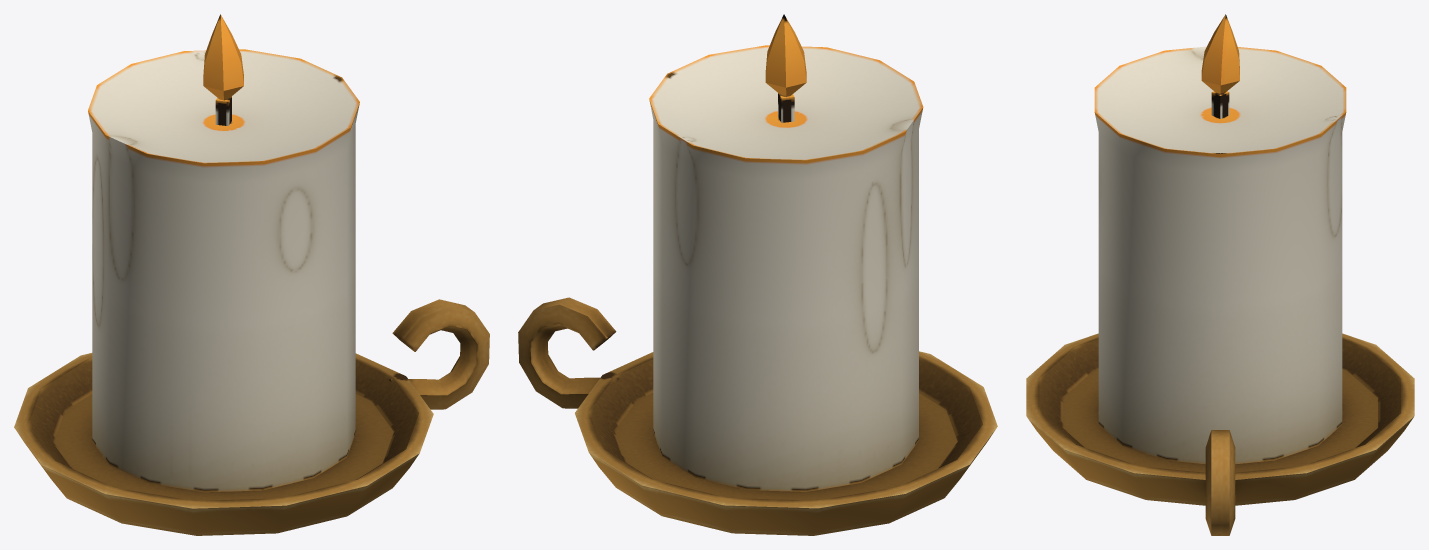
The model's file is Candle_01.glb.
3 views of the same model, side by side, from view 1: azimuth 30°, elevation 25°; view 2: azimuth 150°, elevation 25°; view 3: azimuth 270°, elevation 25° (orthographic). The views are drawn at different scales.
Parts seen in each view (by area): view 1: Candle_01; view 2: Candle_01; view 3: Candle_01.
Part boxes in pixels (bbox=[...]): Candle_01: bbox=[14, 14, 489, 535]; Candle_01: bbox=[518, 14, 997, 535]; Candle_01: bbox=[1026, 14, 1414, 535].
Bounding box in the file's own units: 0.1411 × 0.1351 × 0.1131.
Materials: 1 (1 with a texture image).
